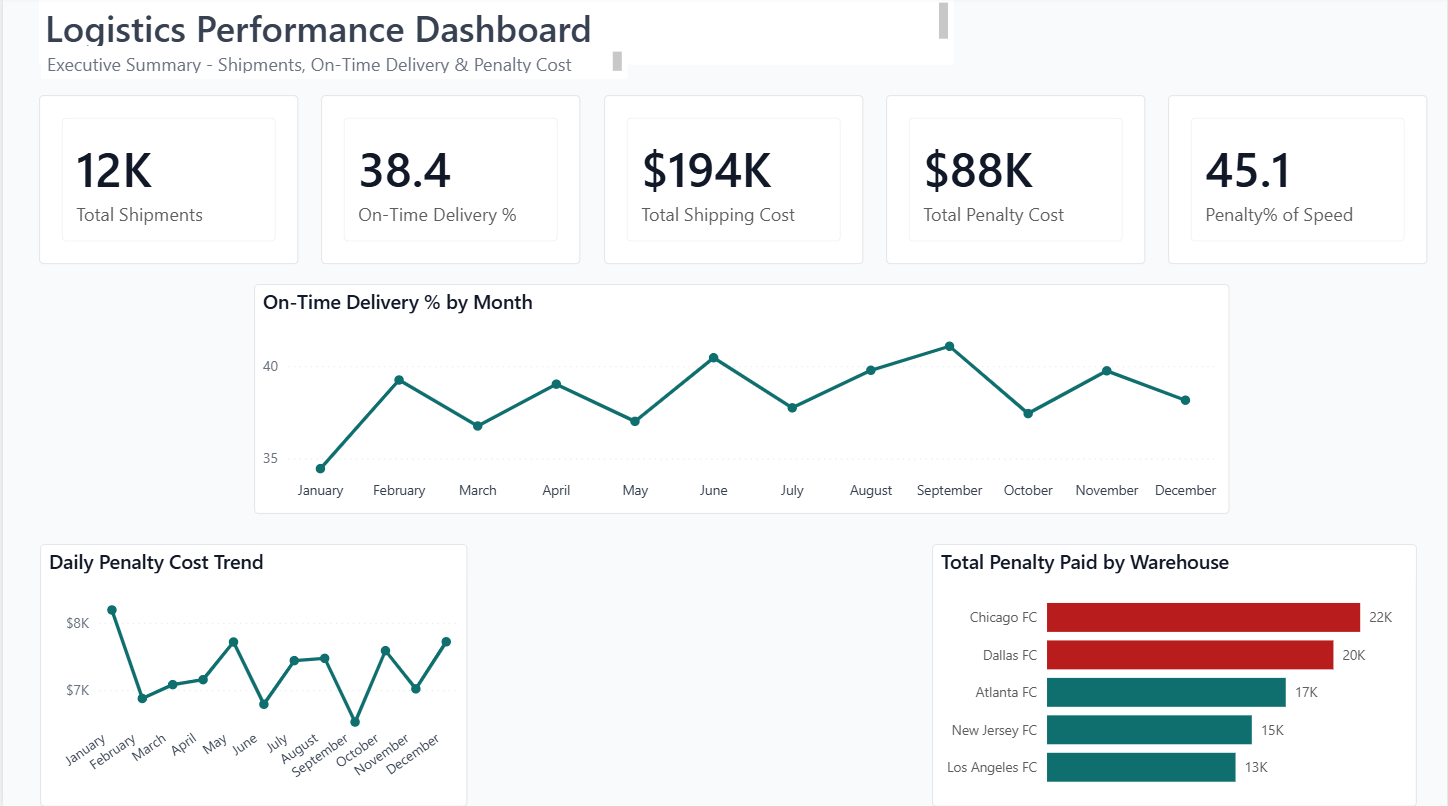

The dashboard page shown, as its layout file describes it:
{"tool":"powerbi","page":{"name":"Executive Summary","canvas":[1280,720],"ordinal":0},"visuals":[{"type":"cardVisual","fields":{"Data":["Sum(public mart_kpi_daily.shipments)"]},"box":[32.1,86.6,230,150],"z":0},{"type":"cardVisual","fields":{"Data":["Avg(public mart_kpi_daily.on_time_pct)"]},"box":[282.3,86.6,230,150],"z":1000},{"type":"cardVisual","fields":{"Data":["Sum(public mart_kpi_daily.daily_shipping_cost)"]},"box":[532.5,86.6,230,150],"z":2000},{"type":"cardVisual","fields":{"Data":["Sum(public mart_kpi_daily.daily_penalty_cost)"]},"box":[782.7,86.6,230,150],"z":3000},{"type":"cardVisual","fields":{"Data":["public mart_kpi_daily.Penalty % of Spend"]},"box":[1032.9,86.6,230,150],"z":4000},{"type":"lineChart","title":"On-Time Delivery % by Month","fields":{"Category":["public mart_kpi_daily.order_date.Variation.Date Hierarchy.Month"],"Y":["Avg(public mart_kpi_daily.on_time_pct)"]},"box":[222.8,254.2,864.8,204.2],"z":5000},{"type":"clusteredBarChart","title":"Total Penalty Paid by Warehouse","fields":{"Category":["public mart_warehouse_performance.warehouse_name"],"Y":["Sum(public mart_warehouse_performance.total_penalty_paid)"]},"box":[823.8,485.3,430,233],"z":6000},{"type":"lineChart","title":"Daily Penalty Cost Trend","fields":{"Category":["public mart_kpi_daily.order_date.Variation.Date Hierarchy.Year","public mart_kpi_daily.order_date.Variation.Date Hierarchy.Quarter","public mart_kpi_daily.order_date.Variation.Date Hierarchy.Month","public mart_kpi_daily.order_date.Variation.Date Hierarchy.Day"],"Y":["Sum(public mart_kpi_daily.daily_penalty_cost)"]},"box":[33.1,485.3,379,233],"z":7000},{"type":"textbox","box":[32.1,0,811.2,60.3],"z":8000},{"type":"textbox","box":[33.4,43.2,520.2,29.4],"z":9000}]}

Visuals, with their boxes in screenshot pixels (x1, y1, x2, y2), scaled from the page's 1280x720 canvas onto the 1448x806 screenshot:
cardVisual - Sum(public mart_kpi_daily.shipments): <bbox>36, 97, 297, 265</bbox>
cardVisual - Avg(public mart_kpi_daily.on_time_pct): <bbox>319, 97, 580, 265</bbox>
cardVisual - Sum(public mart_kpi_daily.daily_shipping_cost): <bbox>602, 97, 863, 265</bbox>
cardVisual - Sum(public mart_kpi_daily.daily_penalty_cost): <bbox>885, 97, 1146, 265</bbox>
cardVisual - public mart_kpi_daily.Penalty % of Spend: <bbox>1168, 97, 1429, 265</bbox>
"On-Time Delivery % by Month" lineChart: <bbox>252, 285, 1230, 513</bbox>
"Total Penalty Paid by Warehouse" clusteredBarChart: <bbox>932, 543, 1418, 804</bbox>
"Daily Penalty Cost Trend" lineChart: <bbox>37, 543, 466, 804</bbox>
textbox: <bbox>36, 0, 954, 68</bbox>
textbox: <bbox>38, 48, 626, 81</bbox>
